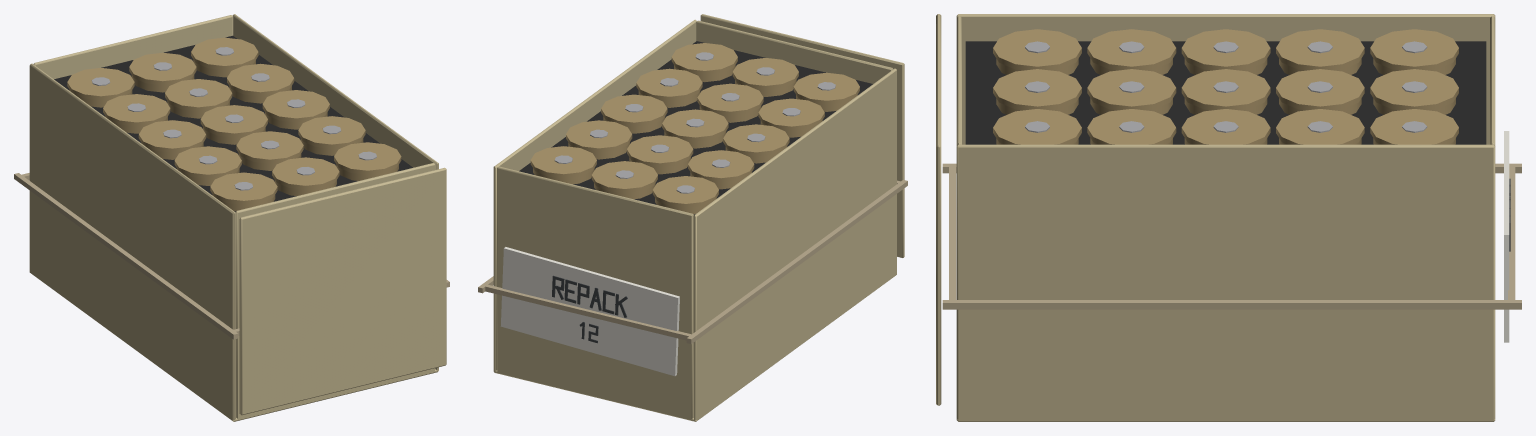
The model's file is ammo_12ga_repack.glb.
3 renders of one model, left to right at view 1: azimuth 30°, elevation 25°; view 2: azimuth 150°, elevation 25°; view 3: azimuth 270°, elevation 25°, orthographic. The views are drawn at different scales.
Visible parts, largest first — view 1: body; view 2: body; view 3: body.
Boxes of the visible parts, x1,y1,x2,y2 form: body: [14, 14, 449, 421]; body: [478, 14, 907, 421]; body: [936, 14, 1521, 421].
Size of the model in its own units: 0.0734 by 0.068 by 0.1305.
